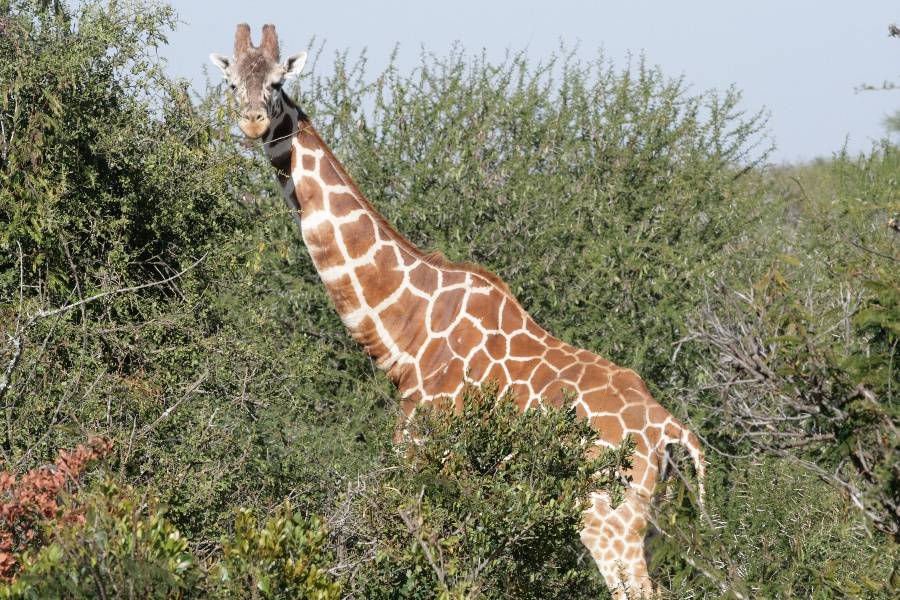giraffe: (195, 18, 724, 594)
